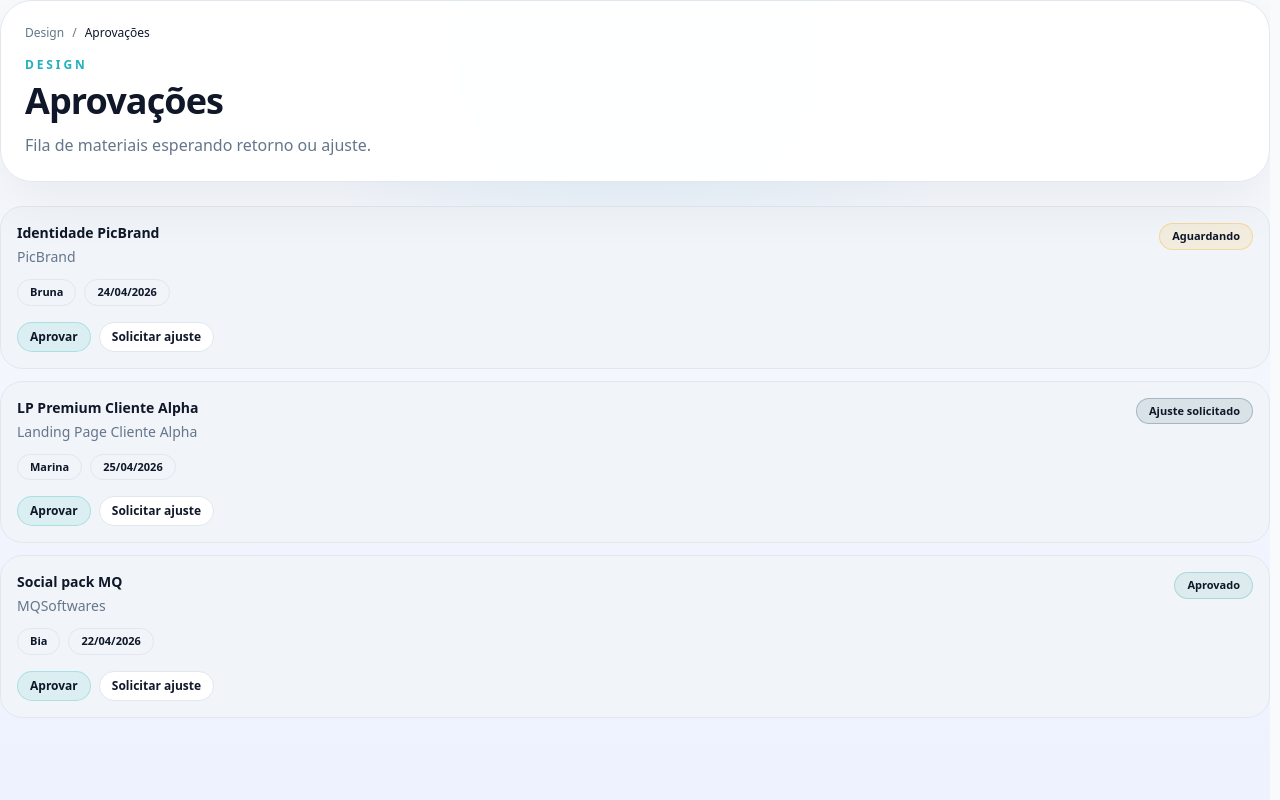
Test: MQ Orbit MVP modules › approves a design item locally
Expected: the text "Identidade PicBrand" is shown, [17,223,160,242]
Click the button "Aprovar" below "Bruna" at point(54, 336), box [17,322,91,352]
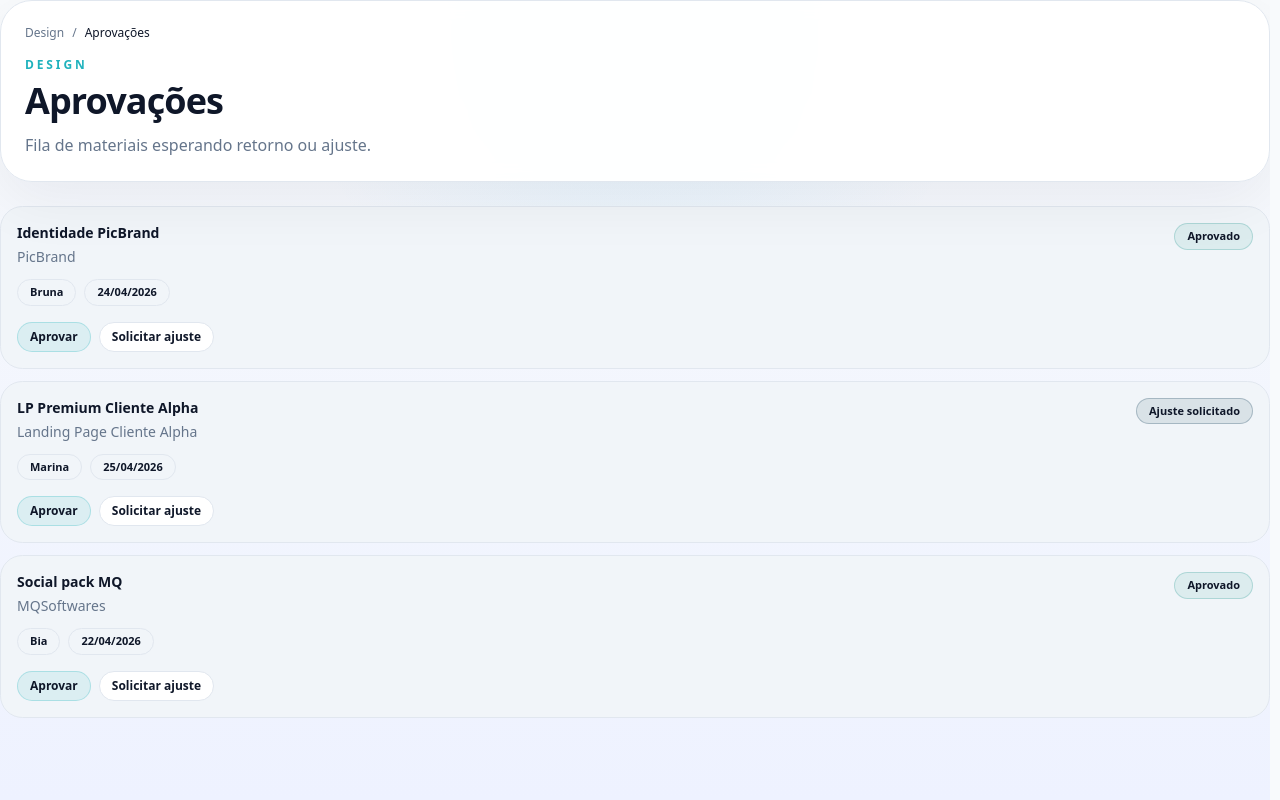
Expected: the text "Aprovado" in the row of "Identidade PicBrand" is shown, [1187,228,1240,243]
